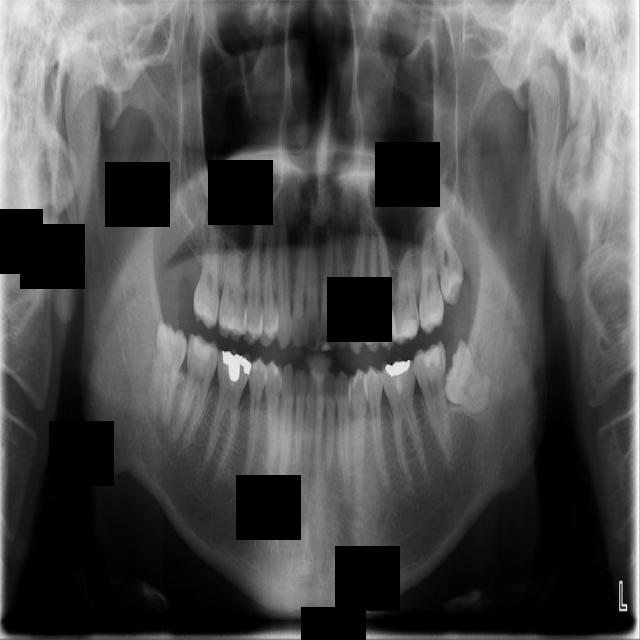52: (206, 346, 255, 405), (380, 357, 420, 405)
73: (577, 550, 584, 566)
BioHorizons Implant: (415, 217, 445, 335)
BioLife Implant: (431, 196, 467, 307)
Biomet 3i Implant: (436, 339, 506, 417)
Blue Sky Bio Implant: (412, 341, 452, 465)
Caries: (192, 207, 220, 331)
Implant: (168, 332, 223, 458)
Keystone Dental Implant: (146, 320, 190, 430)
